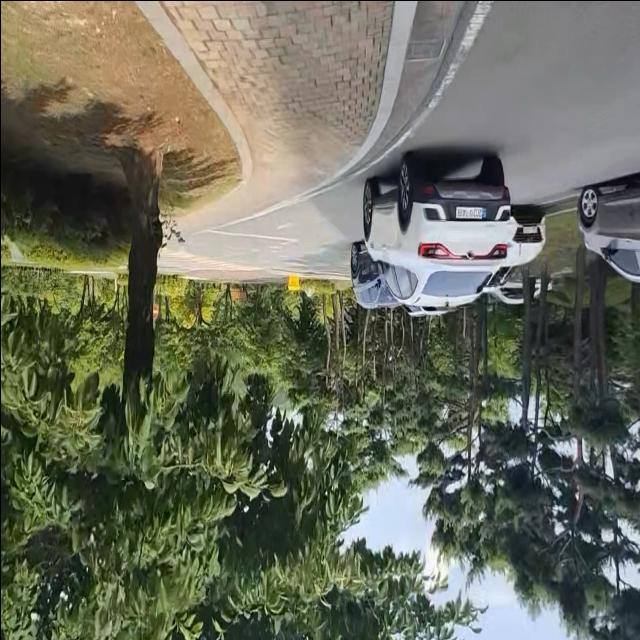obstacle: (357, 142, 510, 309), (569, 167, 640, 290)
road: (154, 0, 640, 280)
sidewalk: (133, 0, 414, 237)
